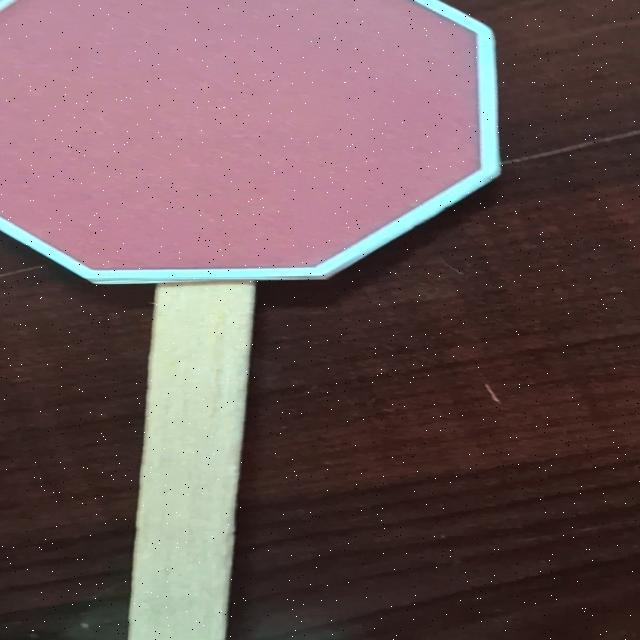Stop: (0, 0, 513, 293)
